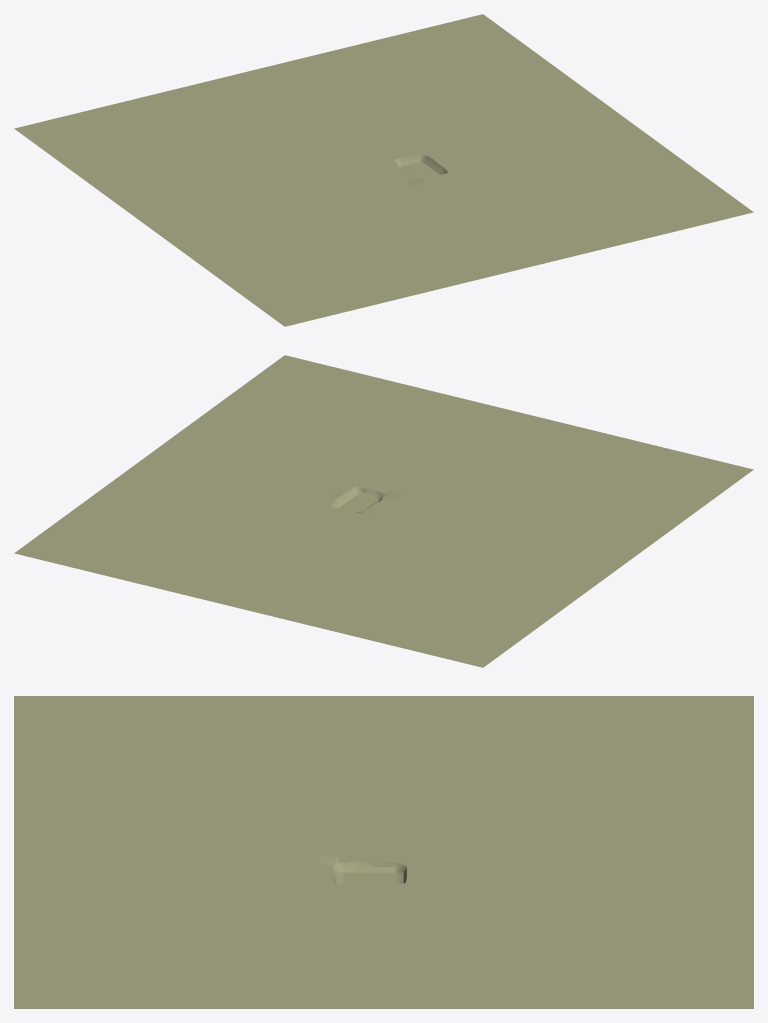
The model's file is SM_Map.fbx.
3 renders of one model, top to bottom at view 1: azimuth 30°, elevation 25°; view 2: azimuth 150°, elevation 25°; view 3: azimuth 270°, elevation 25°, orthographic. The views are drawn at different scales.
Parts seen in each view (by area): view 1: Plane.003; view 2: Plane.003; view 3: Plane.003.
Part boxes in pixels (box(x1,y1,x2,y2)): Plane.003: box(14, 14, 753, 326); Plane.003: box(14, 355, 753, 667); Plane.003: box(14, 696, 753, 1008).
Bounding box in the file's own units: 30000 × 310 × 30000.
